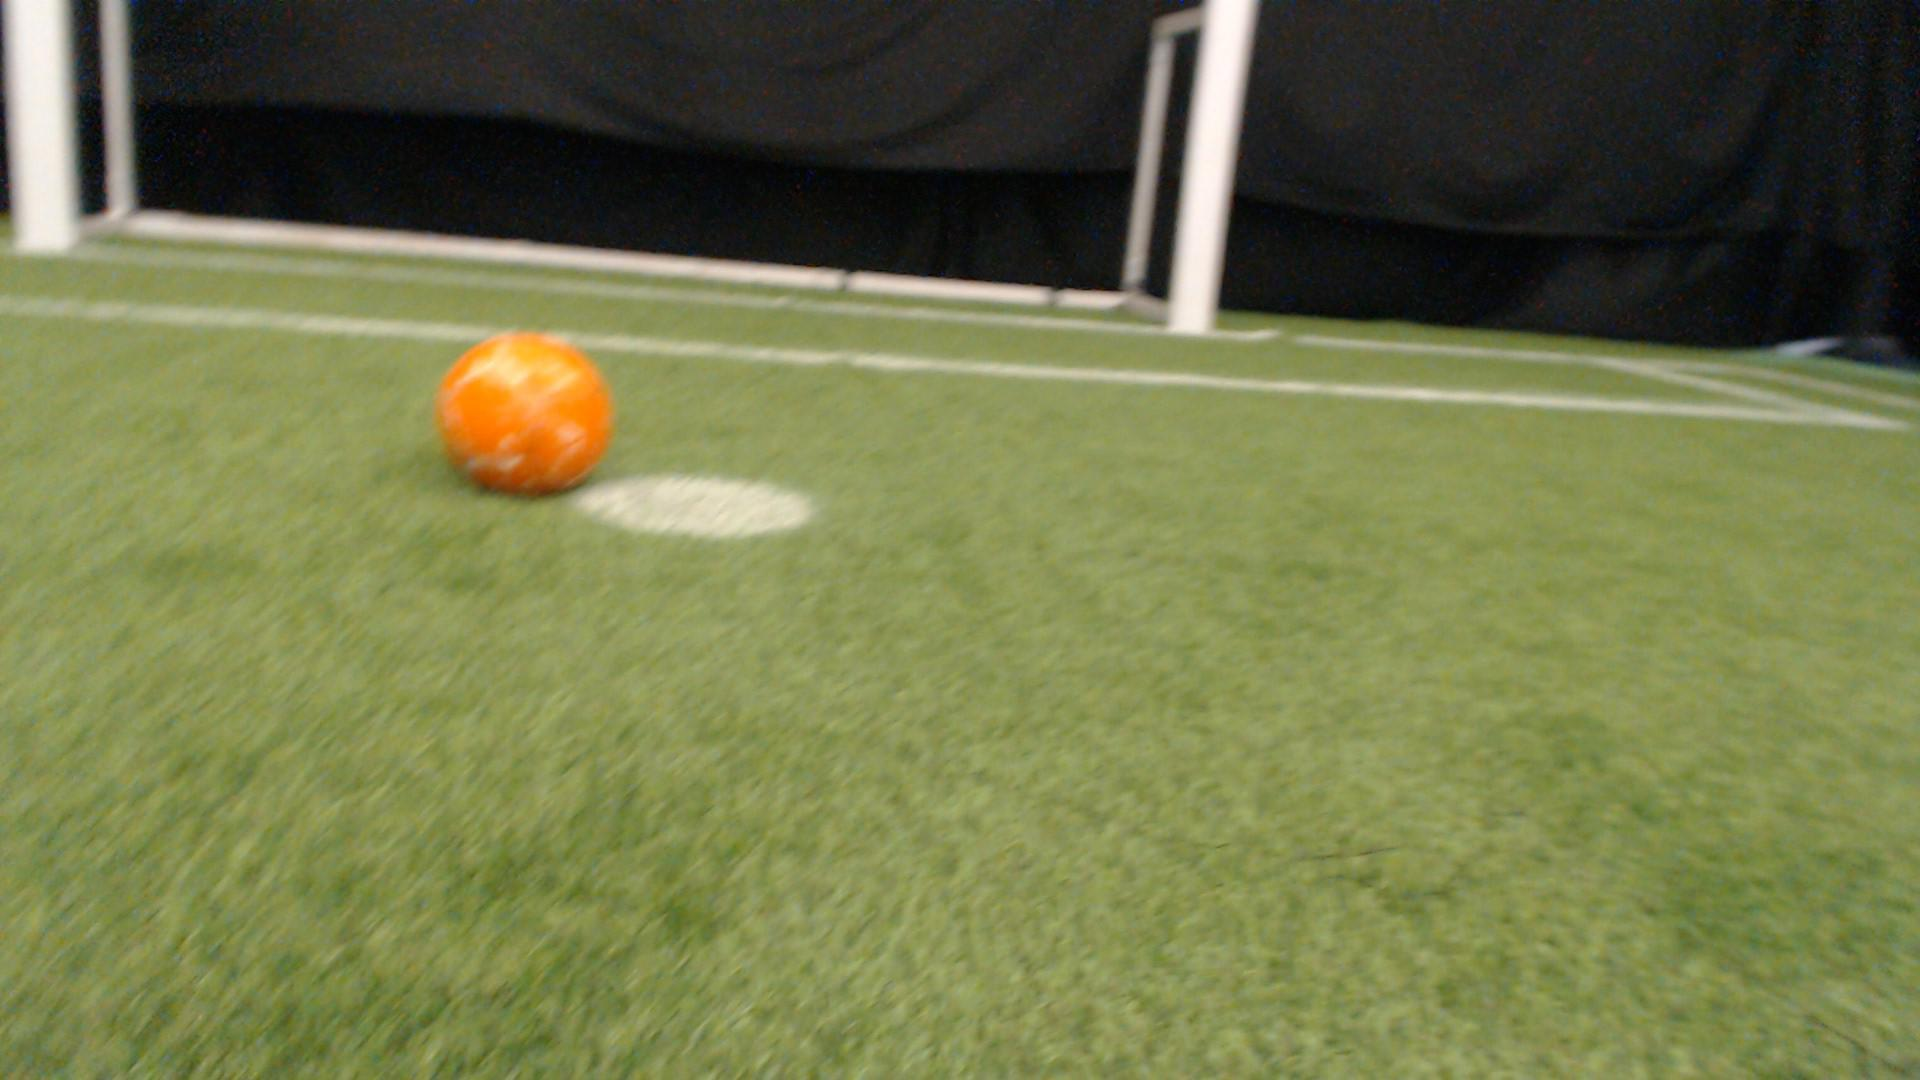bola: (419, 310, 645, 513)
